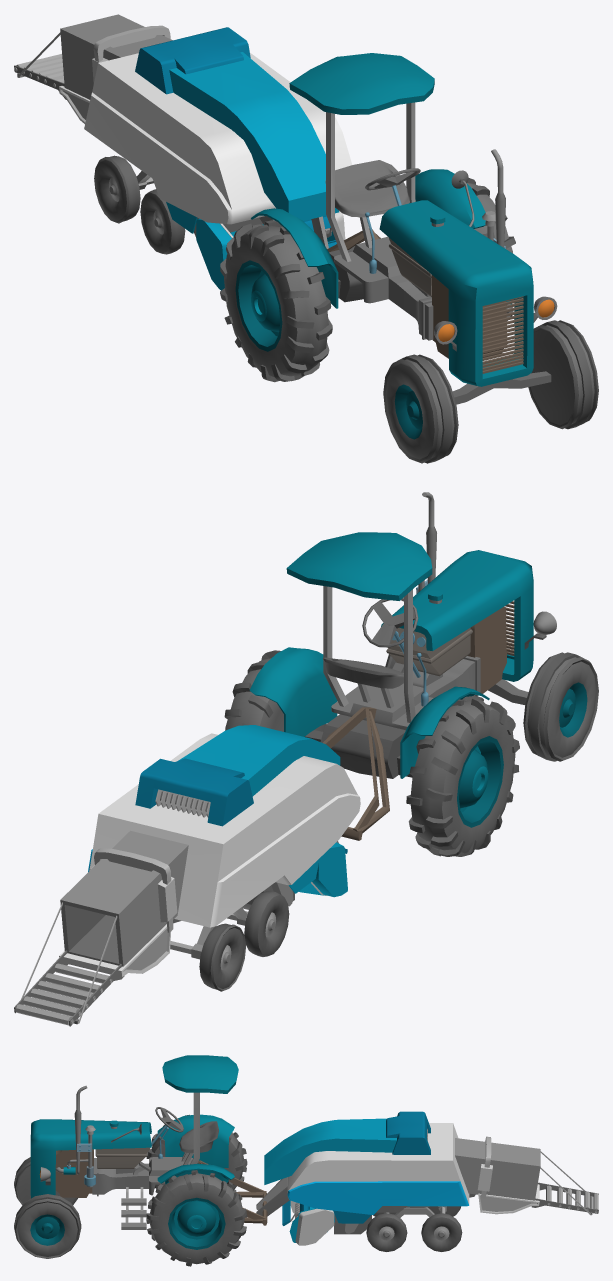
Rendered from SquareBaler.gltf.
The picture shows the model from 3 angles, top to bottom: view 1: azimuth 30°, elevation 25°; view 2: azimuth 150°, elevation 25°; view 3: azimuth 270°, elevation 25°; orthographic projection. The views are drawn at different scales.
Parts seen in each view (by area): view 1: body, wheel_37, wheel_36, wheel_11, wheel_58, wheel_23, wheel_30, wheel_8, wheel_17, wheel_21, wheel_32, wheel_38 (+1 smaller); view 2: body, wheel_37, wheel_36, wheel_58, wheel_23, wheel_30, wheel_8, wheel_13, wheel_17, wheel_24, wheel_32, wheel_50 (+1 smaller); view 3: body, wheel_14, wheel_47, wheel_6, wheel_34, wheel_26, wheel_13, wheel_15, wheel_39, wheel_12, wheel_10, wheel_41 (+2 smaller).
Boxes of the visible parts, x1,y1,x2,y2 form: body: (14,14,557,419); wheel_37: (224,234,297,376); wheel_36: (242,226,328,376); wheel_11: (531,329,574,425); wheel_58: (385,363,434,459); wheel_23: (140,192,171,253); wheel_30: (95,160,126,220); wheel_8: (196,219,224,290); wheel_17: (407,354,452,463); wheel_21: (547,320,592,428); wheel_32: (107,155,140,221); wheel_38: (235,260,282,351); body: (14,492,574,1026); wheel_37: (442,709,515,853); wheel_36: (410,700,498,854); wheel_58: (547,661,596,757); wheel_23: (258,895,289,956); wheel_30: (213,927,244,988); wheel_8: (318,846,347,897); wheel_13: (225,658,270,730); wheel_17: (529,652,574,761); wheel_24: (244,891,283,956); wheel_32: (199,923,233,989); wheel_50: (560,682,587,737); body: (14,1055,598,1266); wheel_14: (151,1182,241,1264); wheel_47: (17,1202,77,1256); wheel_6: (298,1210,334,1245); wheel_34: (367,1217,405,1251); wheel_26: (422,1217,460,1251); wheel_13: (149,1173,244,1251); wheel_15: (168,1197,225,1249); wheel_39: (30,1214,64,1245); wheel_12: (17,1166,75,1203); wheel_10: (154,1141,241,1189); wheel_41: (16,1201,79,1258).
Size of the model in its own units: 2.9 by 3.4 by 10.45.
1 material, 1 textured.
